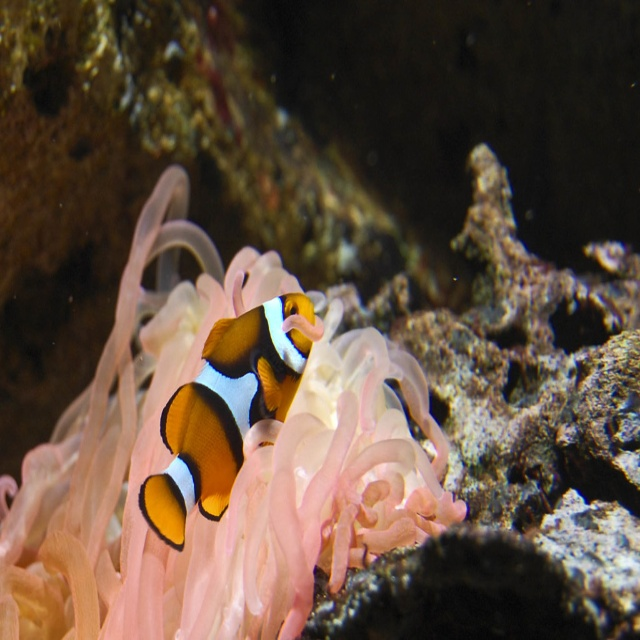Fish: (137, 291, 316, 551)
